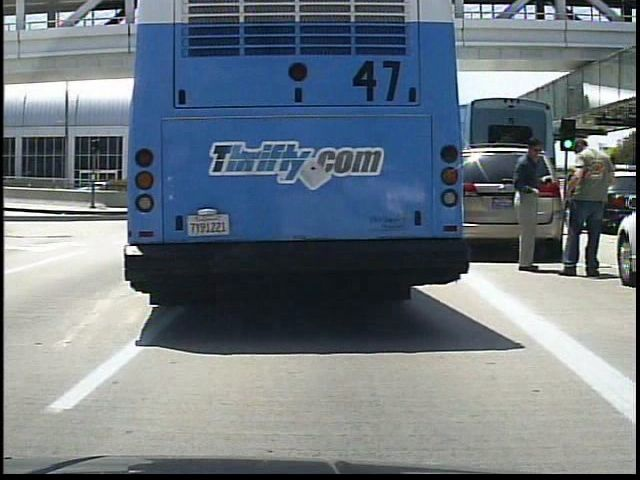person: (556, 121, 614, 285), (508, 131, 557, 272)
